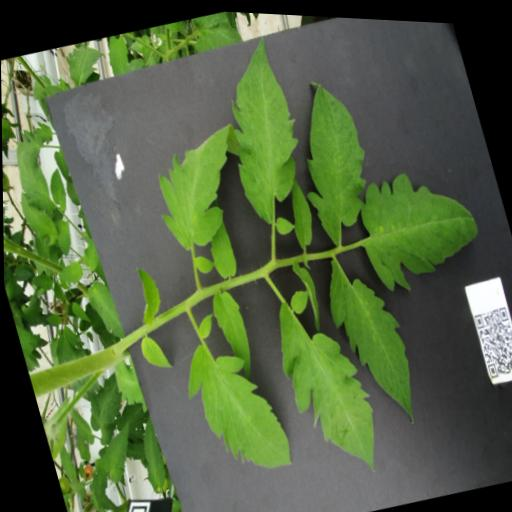Healthy: (261, 274, 388, 486), (202, 28, 319, 226), (314, 242, 425, 434), (345, 152, 489, 298), (276, 70, 387, 249), (173, 325, 294, 485), (137, 115, 264, 258), (205, 287, 256, 380), (76, 369, 133, 447), (89, 418, 140, 485), (278, 170, 319, 247), (129, 413, 168, 490), (198, 213, 240, 280), (15, 185, 58, 249), (82, 275, 122, 343), (61, 38, 110, 87), (100, 31, 133, 76), (42, 166, 70, 214), (66, 404, 94, 447), (51, 255, 84, 287), (50, 216, 75, 258), (76, 236, 100, 273), (50, 144, 71, 185), (27, 118, 54, 148), (68, 298, 90, 327), (27, 270, 53, 294), (40, 309, 61, 328)
